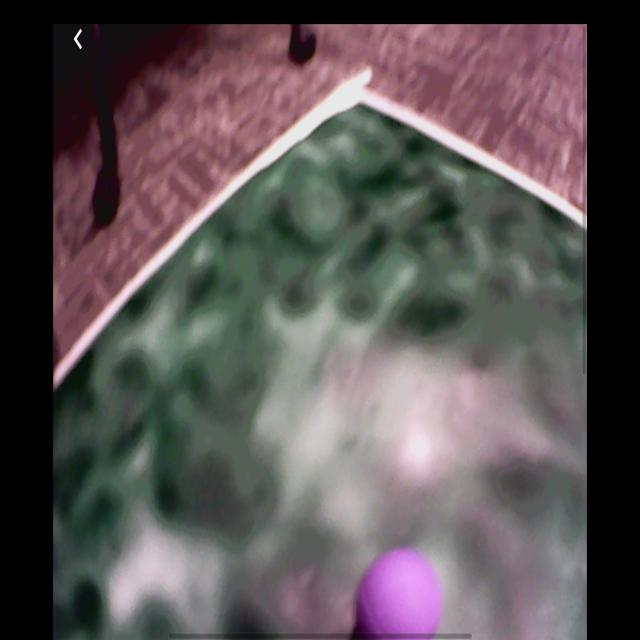ball: (356, 548, 445, 635)
